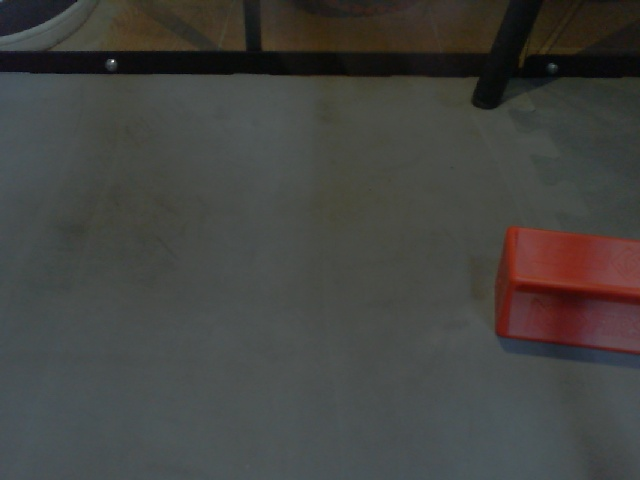RedSample: (490, 223, 640, 359)
